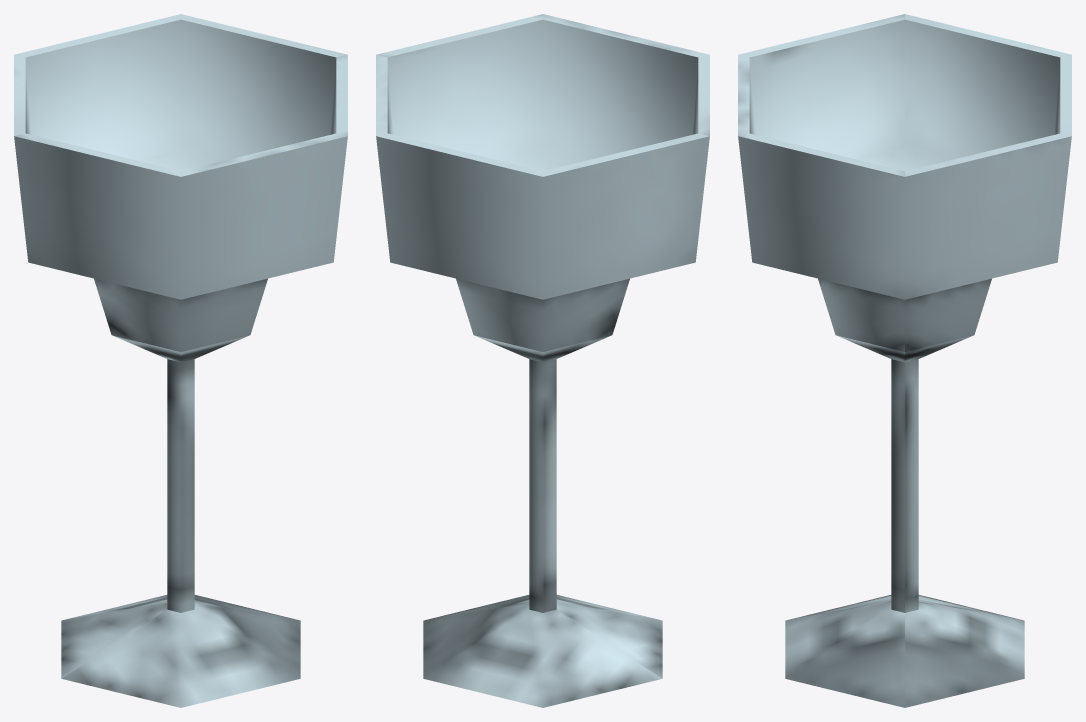
Rendered from EmptyGlassV5.fbx.
3 renders of one model, left to right at view 1: azimuth 30°, elevation 25°; view 2: azimuth 150°, elevation 25°; view 3: azimuth 270°, elevation 25°, orthographic.
Visible parts, largest first — view 1: Glasses.011; view 2: Glasses.011; view 3: Glasses.011.
Boxes of the visible parts, left/top/right/bottom form: Glasses.011: left=14, top=14, right=347, bottom=707; Glasses.011: left=376, top=14, right=709, bottom=707; Glasses.011: left=738, top=14, right=1071, bottom=707.
Size of the model in its own units: 0.163 by 0.2585 by 0.1412.
